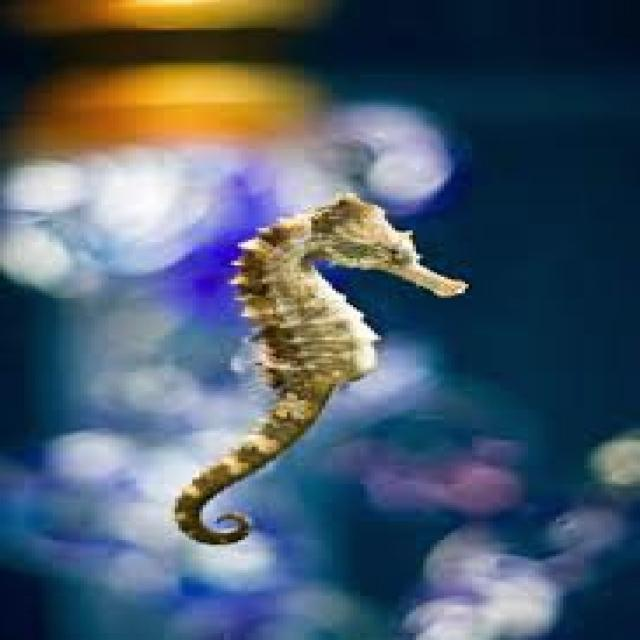seahorse: (178, 193, 469, 542)
